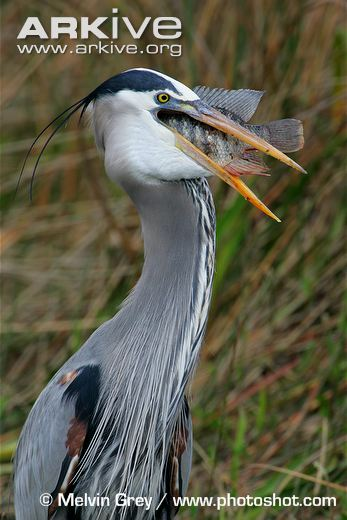heron: (16, 64, 308, 491)
